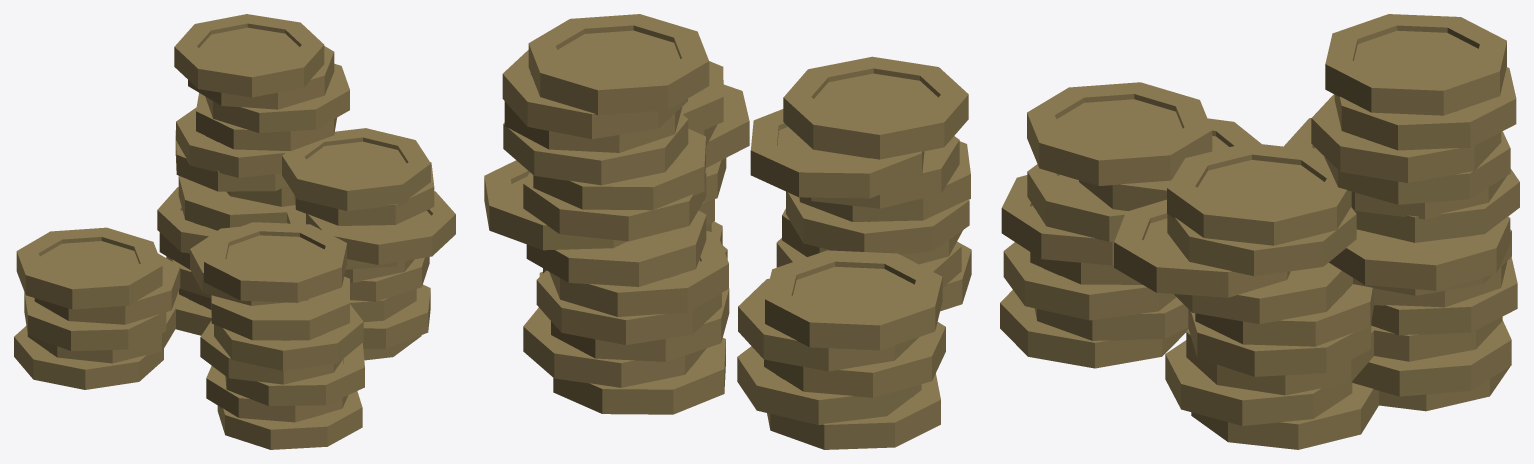
The model's file is Coin_Pile.glb.
3 renders of one model, left to right at view 1: azimuth 30°, elevation 25°; view 2: azimuth 150°, elevation 25°; view 3: azimuth 270°, elevation 25°, orthographic. The views are drawn at different scales.
Visible parts, largest first — view 1: Coin_Pile; view 2: Coin_Pile; view 3: Coin_Pile.
Boxes of the visible parts, left/top/right/bottom form: Coin_Pile: left=14, top=14, right=455, bottom=449; Coin_Pile: left=484, top=14, right=971, bottom=449; Coin_Pile: left=1000, top=14, right=1519, bottom=449.
Bounding box in the file's own units: 0.0682 × 0.0473 × 0.0677.
